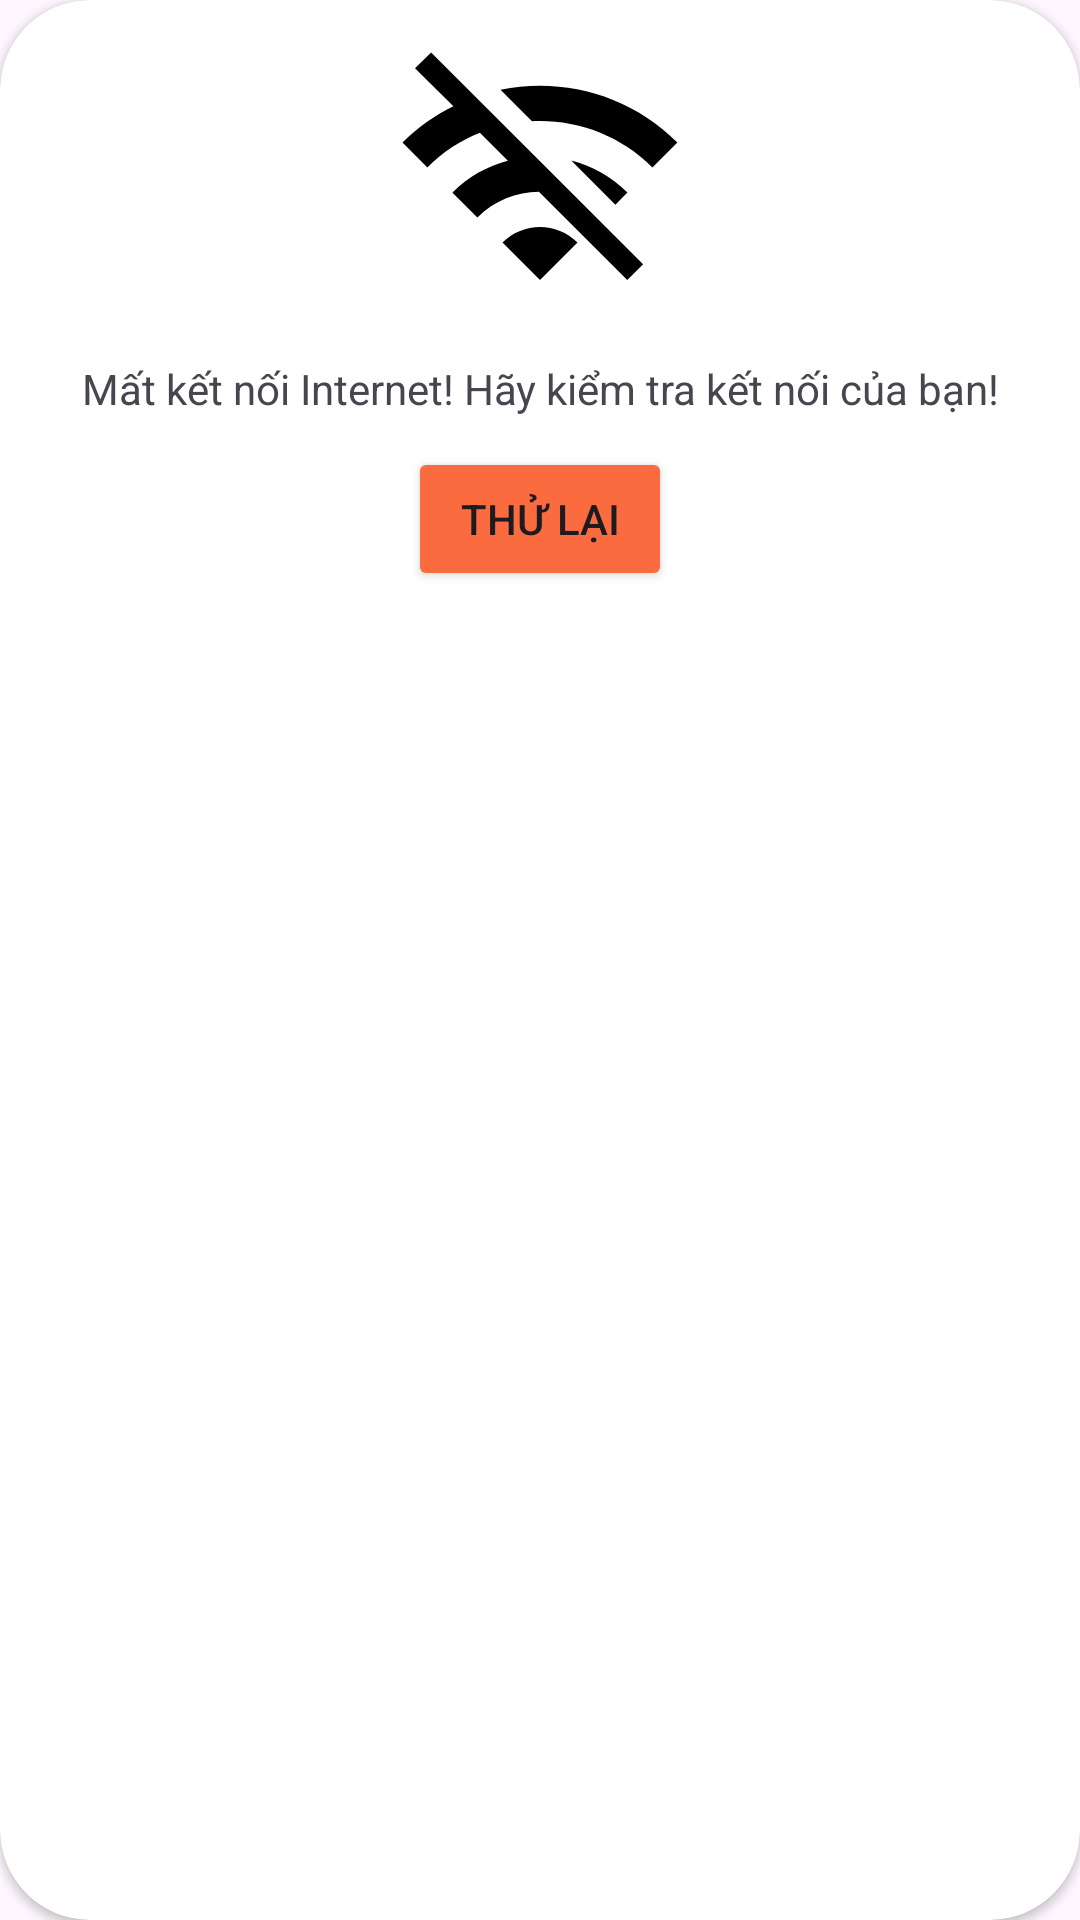

Named icons in this screenshot (1080 × 1920) and their centers, (x,y):
no network: (540,166)
